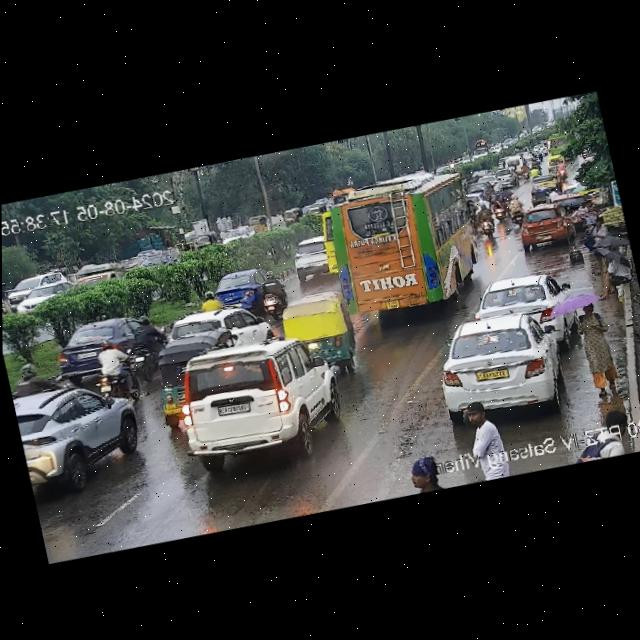bus: (326, 161, 493, 323), (316, 209, 342, 280)
car: (157, 320, 351, 469), (431, 298, 588, 424), (13, 374, 147, 502), (45, 307, 162, 385), (465, 266, 575, 335), (273, 291, 357, 378), (159, 298, 273, 360), (205, 262, 283, 310), (147, 350, 185, 428), (514, 202, 576, 248), (285, 234, 331, 281), (134, 247, 185, 275), (472, 165, 520, 192), (505, 143, 532, 164), (195, 229, 220, 248), (280, 206, 305, 224), (305, 201, 327, 220), (249, 212, 269, 231), (543, 155, 558, 172)
motorcycle: (88, 337, 140, 403), (128, 312, 165, 373), (253, 264, 291, 319), (9, 360, 51, 402), (470, 200, 497, 238), (507, 192, 528, 228), (544, 132, 570, 159), (489, 192, 510, 223), (198, 287, 220, 310), (491, 183, 510, 198), (555, 159, 569, 179), (517, 161, 529, 179), (531, 155, 542, 168), (530, 166, 540, 176)
person: (461, 404, 515, 482), (587, 242, 637, 296), (398, 455, 440, 496), (569, 298, 609, 336), (527, 173, 559, 202), (570, 198, 598, 226)
